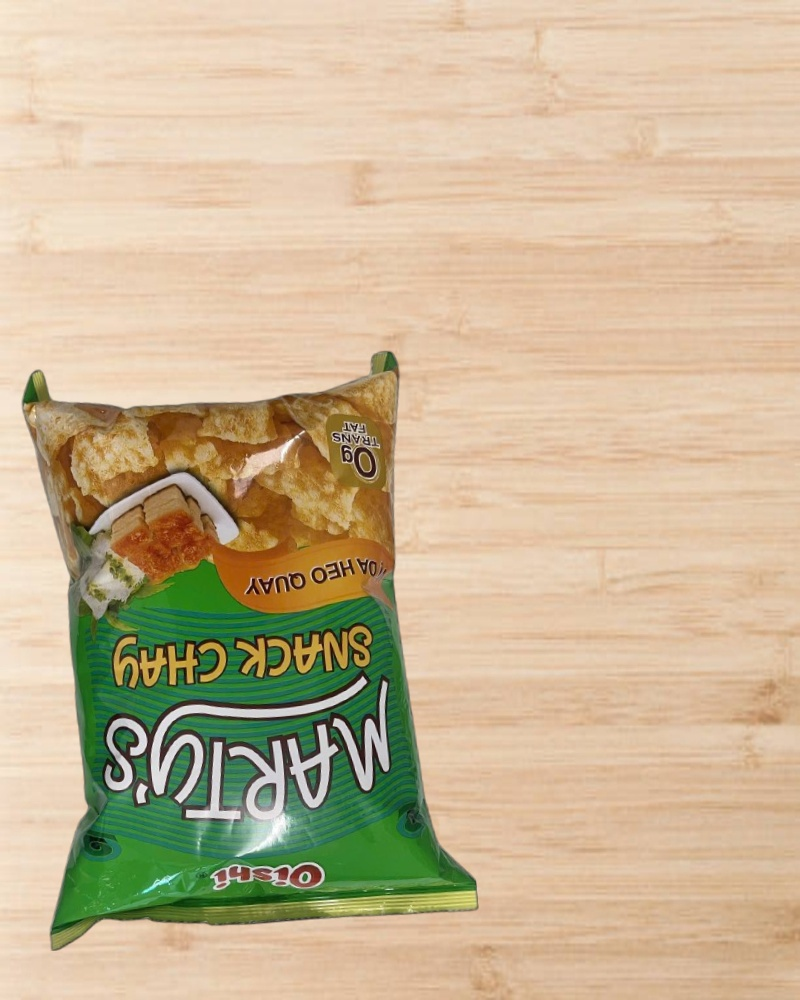Snack chay: (22, 338, 478, 950)
